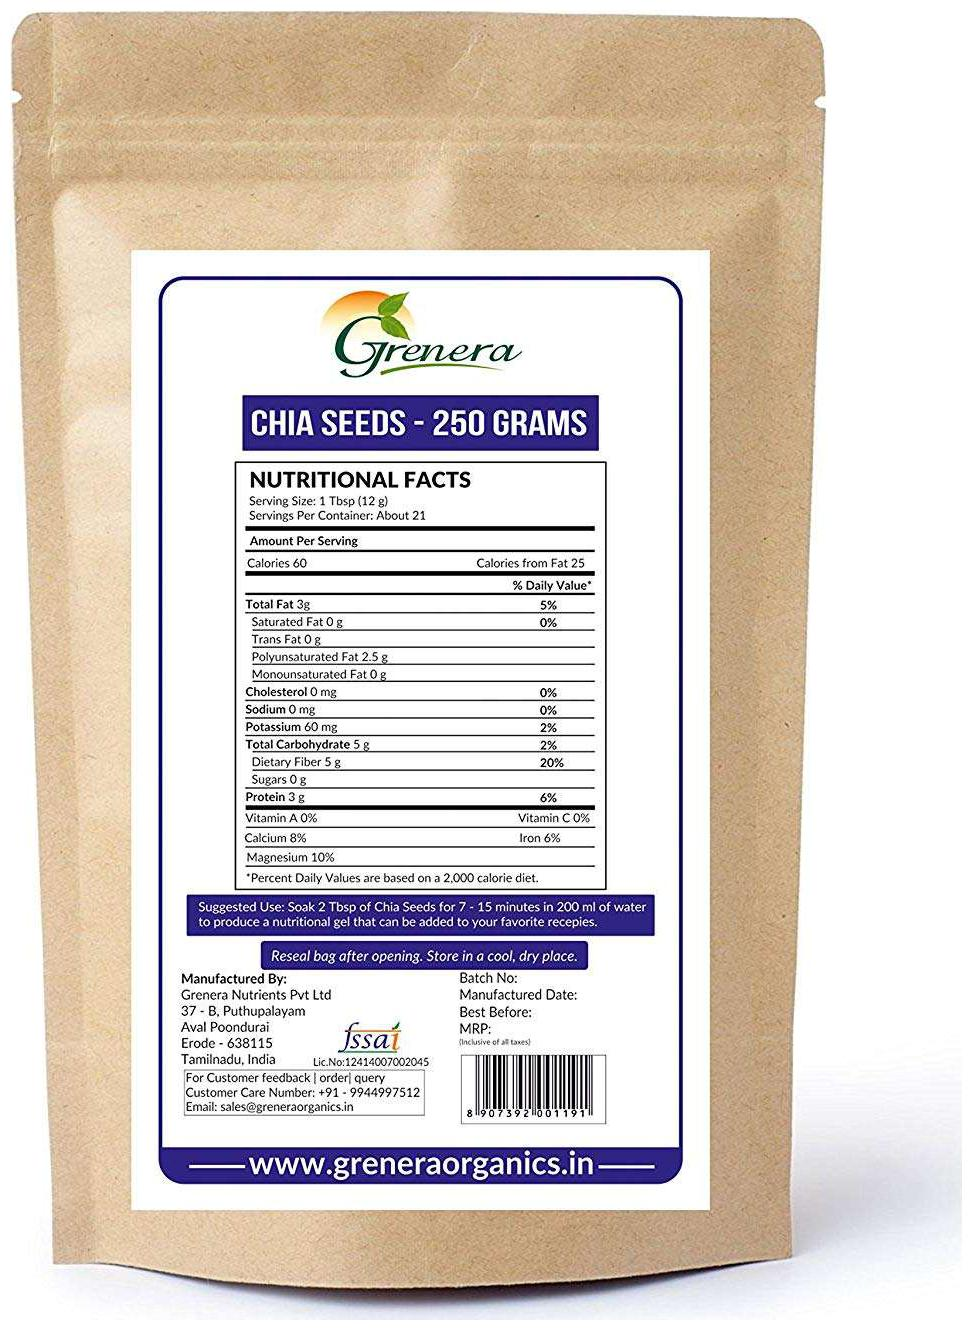fssai: (336, 1020, 406, 1054)
